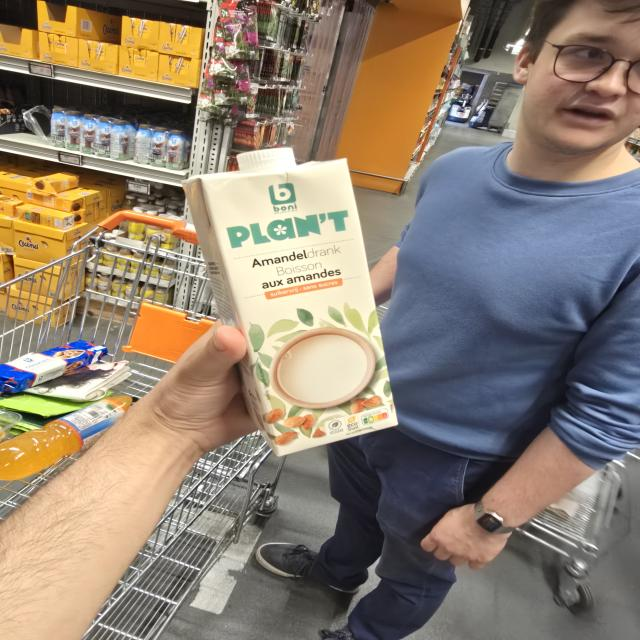Milk: (182, 145, 400, 457)
